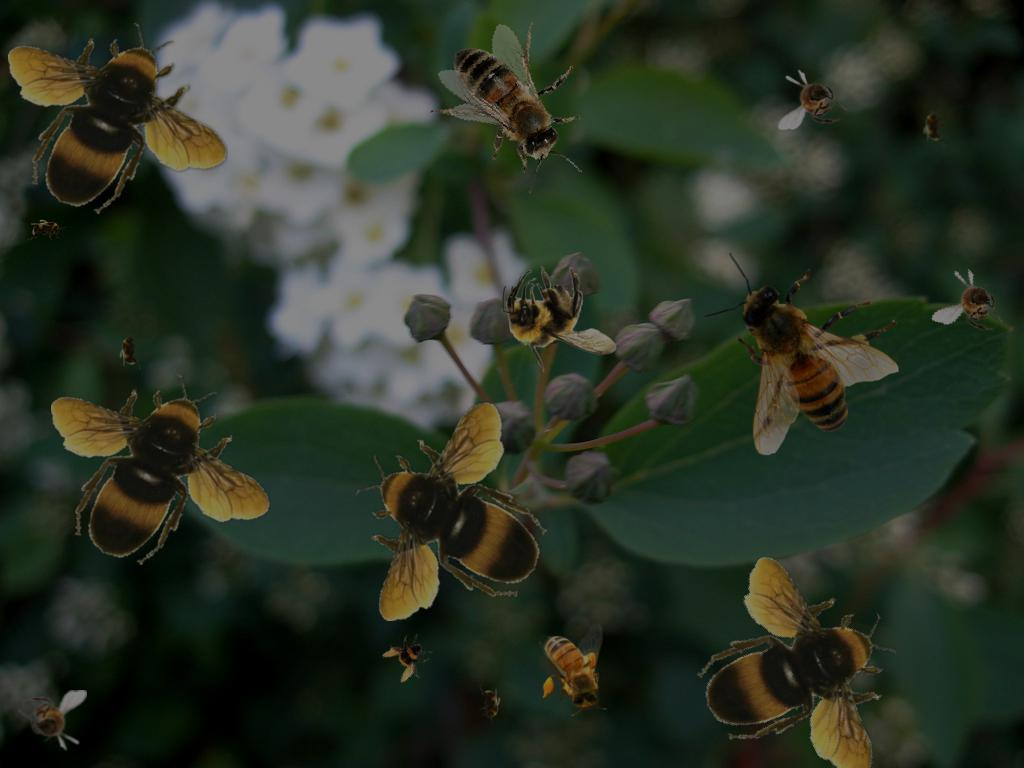Bee: (659, 534, 951, 768), (8, 23, 228, 214), (51, 374, 271, 565), (356, 401, 547, 621), (700, 252, 899, 456), (416, 4, 613, 204), (502, 266, 617, 373), (930, 262, 1017, 342), (539, 623, 607, 716), (778, 69, 848, 130), (17, 690, 87, 751), (377, 626, 441, 690), (923, 106, 945, 146), (479, 685, 501, 725), (27, 219, 67, 241), (119, 330, 141, 370)
